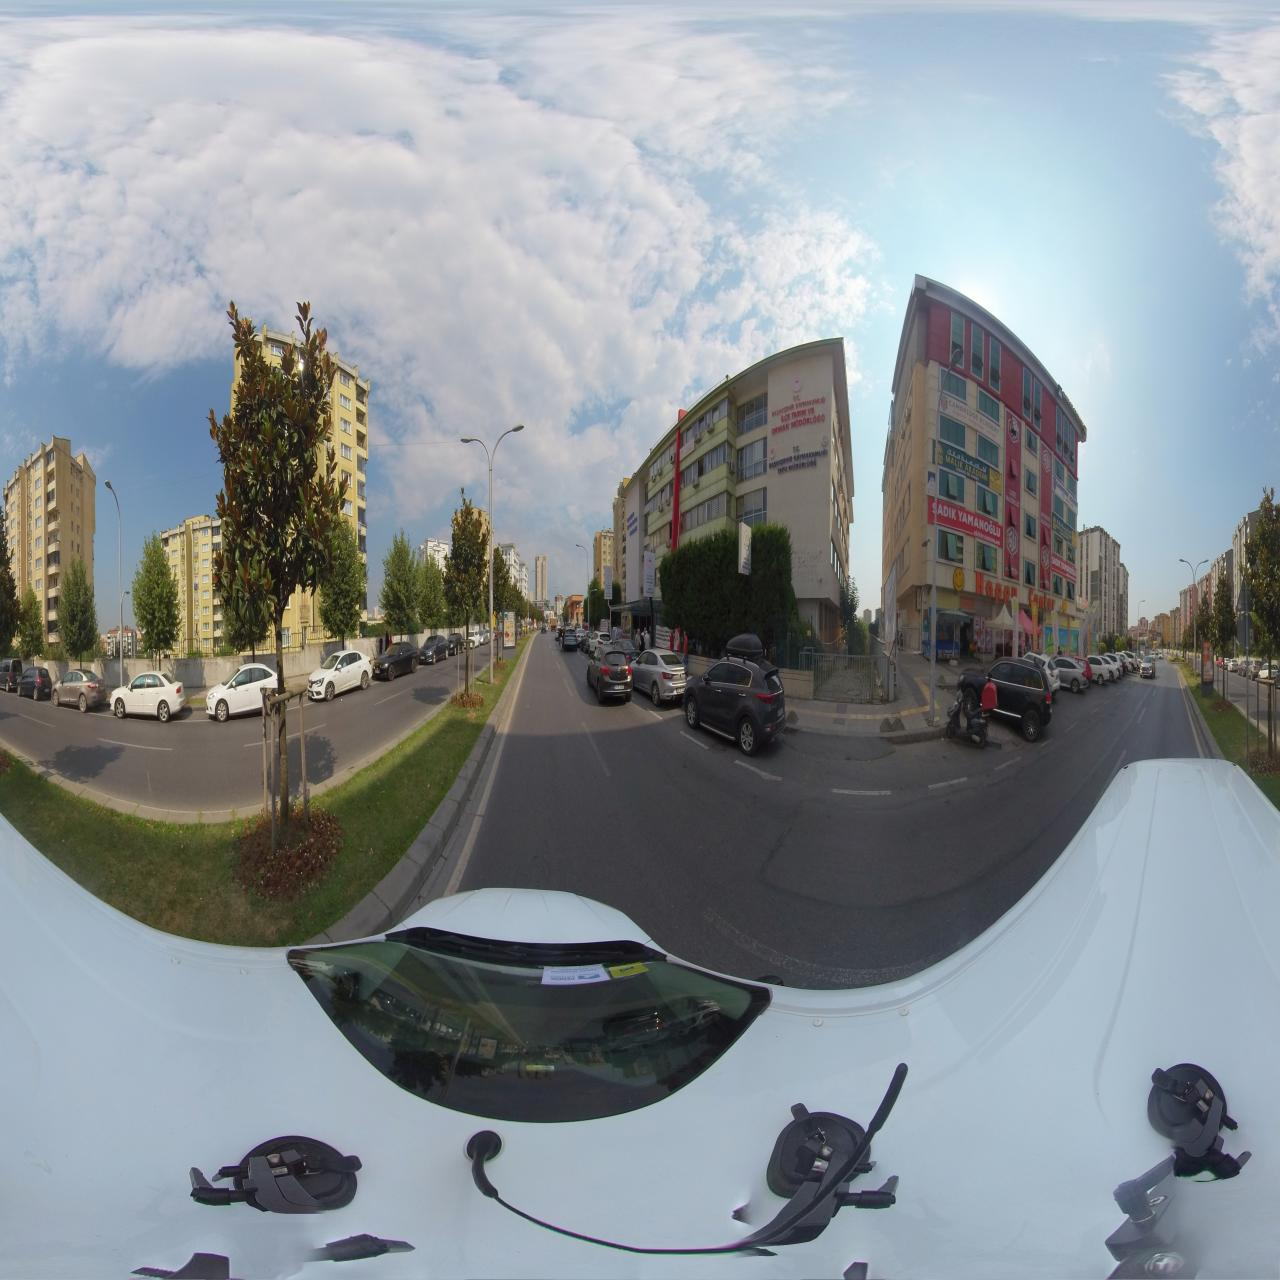SignStore: (939, 441, 1002, 496), (938, 499, 1002, 549), (942, 394, 1001, 445), (1053, 475, 1078, 515), (1053, 512, 1076, 547), (1051, 553, 1076, 583)
